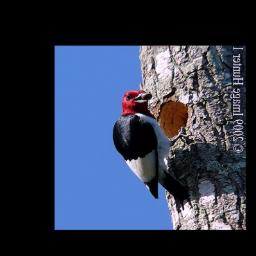Woodpecker: (110, 82, 198, 214)
